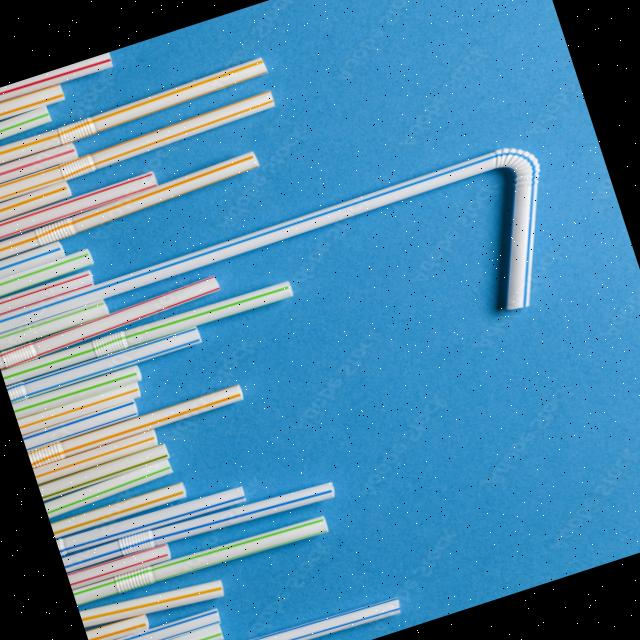plastic: (256, 95, 628, 403)
